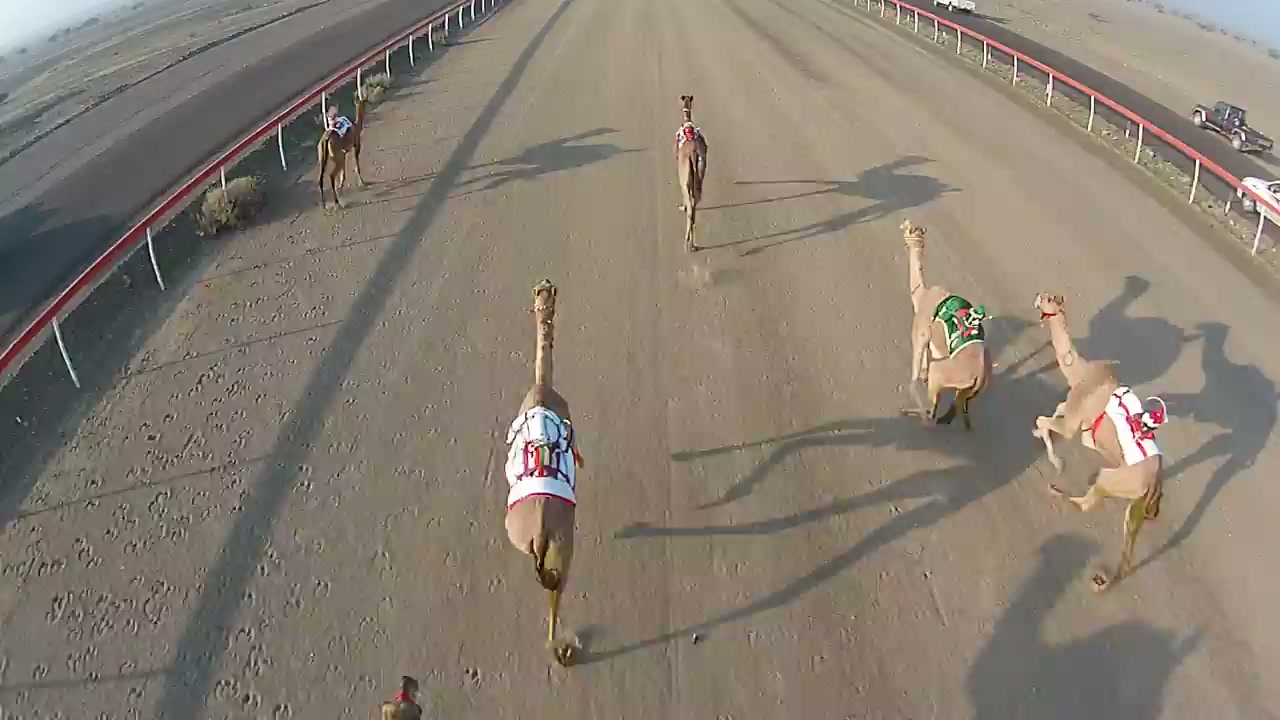animal_foot_print: (35, 253, 333, 708)
